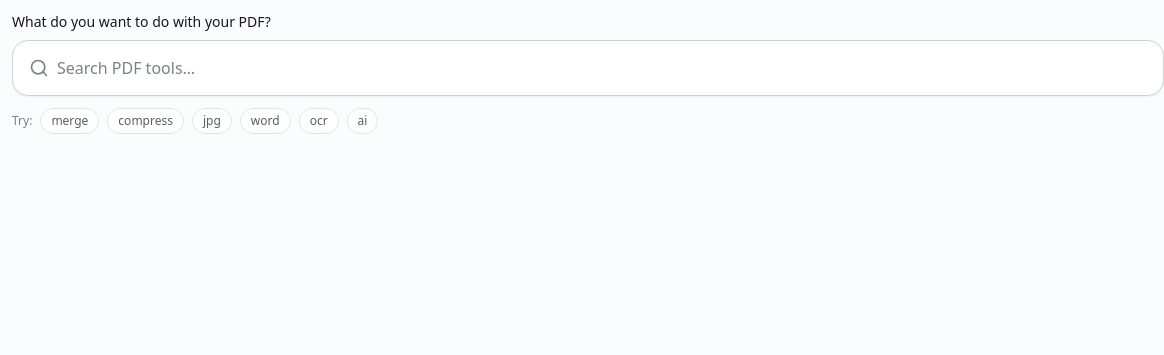
Test: HeroToolSearch › fills the query from a suggestion
This screenshot has width=1164, height=355.
Click the button "ocr": (319, 121) [299,108,339,134]
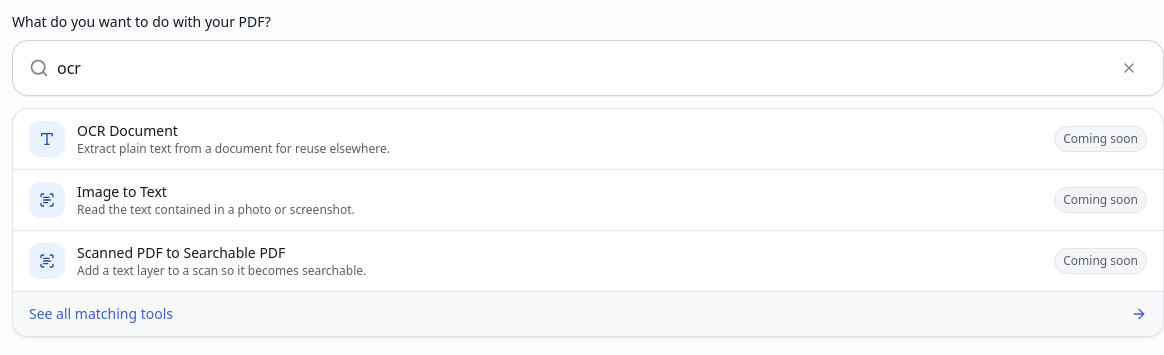
Check: the search field holds "ocr", box [57,56,1103,80]
Check: the link "OCR Document" is shown, box [13,109,1163,169]
